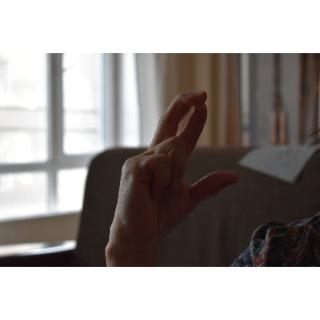DHELL: (105, 83, 248, 250)
